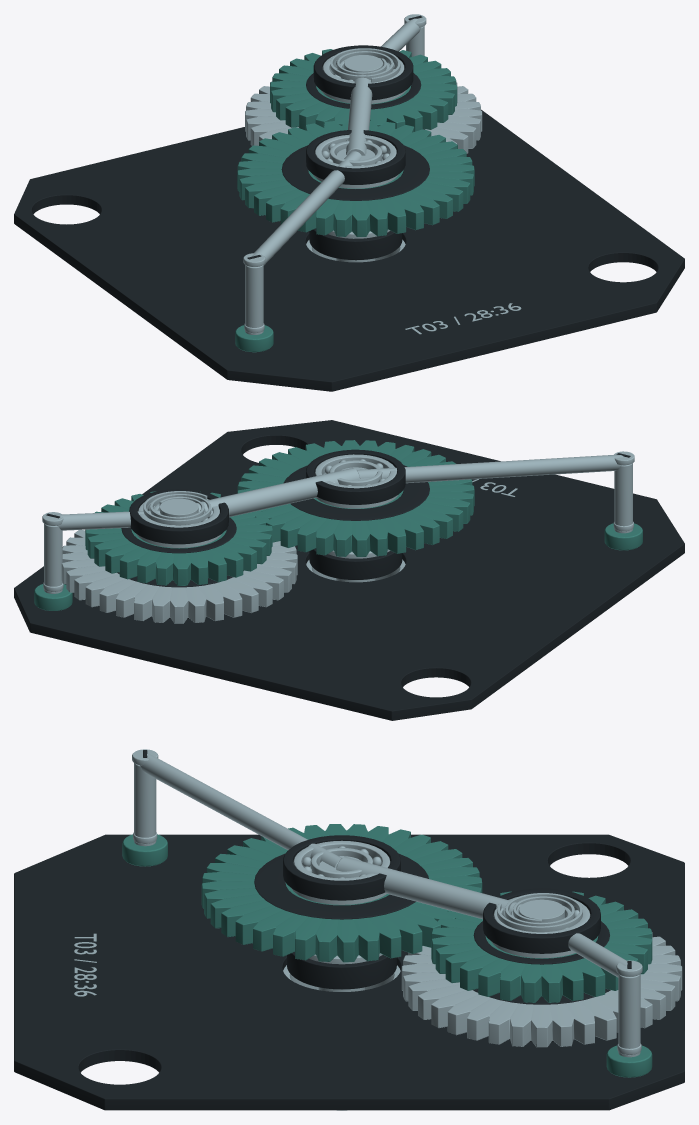
The picture shows the model from 3 angles, top to bottom: view 1: azimuth 30°, elevation 25°; view 2: azimuth 150°, elevation 25°; view 3: azimuth 270°, elevation 25°; orthographic projection. The views are drawn at different scales.
Visible parts, largest first — view 1: Export_T03_tray__Launcher_Graphite_POM__fixed_carrier, Export_T03_output_rotor__Performance_Teal_Anodized__output_g, Export_T03_bearing_bridge__Launcher_Brushed_Steel__bearing_w, Export_T03_input_rotor__Performance_Teal_Anodized__input_gea, Export_T03_bearing_bridge__Launcher_Graphite_POM__bearing_wo, Export_T03_input_rotor__Launcher_Brushed_Steel__input_gear_w, Export_T03_output_rotor__Launcher_Graphite_POM__output_gear_, Export_T03_return_spring__Launcher_Brushed_Steel__return_spr, Export_T03_tray__Launcher_Brushed_Steel__fixed_carrier, Export_T03_input_rotor__Launcher_Graphite_POM__input_gear_wo, Export_T03_tray__Performance_Teal_Anodized__fixed_carrier; view 2: Export_T03_tray__Launcher_Graphite_POM__fixed_carrier, Export_T03_bearing_bridge__Launcher_Brushed_Steel__bearing_w, Export_T03_output_rotor__Performance_Teal_Anodized__output_g, Export_T03_input_rotor__Launcher_Brushed_Steel__input_gear_w, Export_T03_input_rotor__Performance_Teal_Anodized__input_gea, Export_T03_bearing_bridge__Launcher_Graphite_POM__bearing_wo, Export_T03_output_rotor__Launcher_Graphite_POM__output_gear_, Export_T03_tray__Performance_Teal_Anodized__fixed_carrier, Export_T03_return_spring__Launcher_Brushed_Steel__return_spr, Export_T03_input_rotor__Launcher_Graphite_POM__input_gear_wo, Export_T03_tray__Launcher_Brushed_Steel__fixed_carrier, Export_T03_output_rotor__Launcher_Brushed_Steel__output_gear; view 3: Export_T03_tray__Launcher_Graphite_POM__fixed_carrier, Export_T03_output_rotor__Performance_Teal_Anodized__output_g, Export_T03_bearing_bridge__Launcher_Brushed_Steel__bearing_w, Export_T03_input_rotor__Launcher_Brushed_Steel__input_gear_w, Export_T03_input_rotor__Performance_Teal_Anodized__input_gea, Export_T03_bearing_bridge__Launcher_Graphite_POM__bearing_wo, Export_T03_output_rotor__Launcher_Graphite_POM__output_gear_, Export_T03_tray__Performance_Teal_Anodized__fixed_carrier, Export_T03_return_spring__Launcher_Brushed_Steel__return_spr, Export_T03_tray__Launcher_Brushed_Steel__fixed_carrier, Export_T03_input_rotor__Launcher_Graphite_POM__input_gear_wo, Export_T03_output_rotor__Launcher_Brushed_Steel__output_gear.
Part boxes in pixels (x1=…): Export_T03_tray__Launcher_Graphite_POM__fixed_carrier: x1=14, y1=109, x2=684, y2=391; Export_T03_output_rotor__Performance_Teal_Anodized__output_g: x1=237, y1=120, x2=474, y2=236; Export_T03_bearing_bridge__Launcher_Brushed_Steel__bearing_w: x1=243, y1=14, x2=426, y2=334; Export_T03_input_rotor__Performance_Teal_Anodized__input_gea: x1=270, y1=49, x2=457, y2=131; Export_T03_bearing_bridge__Launcher_Graphite_POM__bearing_wo: x1=247, y1=15, x2=422, y2=259; Export_T03_input_rotor__Launcher_Brushed_Steel__input_gear_w: x1=245, y1=55, x2=482, y2=153; Export_T03_output_rotor__Launcher_Graphite_POM__output_gear_: x1=281, y1=145, x2=429, y2=200; Export_T03_return_spring__Launcher_Brushed_Steel__return_spr: x1=330, y1=48, x2=400, y2=82; Export_T03_tray__Launcher_Brushed_Steel__fixed_carrier: x1=244, y1=229, x2=521, y2=334; Export_T03_input_rotor__Launcher_Graphite_POM__input_gear_wo: x1=298, y1=73, x2=425, y2=129; Export_T03_tray__Performance_Teal_Anodized__fixed_carrier: x1=235, y1=325, x2=273, y2=352; Export_T03_tray__Launcher_Graphite_POM__fixed_carrier: x1=14, y1=420, x2=684, y2=720; Export_T03_bearing_bridge__Launcher_Brushed_Steel__bearing_w: x1=42, y1=451, x2=634, y2=593; Export_T03_output_rotor__Performance_Teal_Anodized__output_g: x1=237, y1=440, x2=474, y2=556; Export_T03_input_rotor__Launcher_Brushed_Steel__input_gear_w: x1=61, y1=498, x2=297, y2=623; Export_T03_input_rotor__Performance_Teal_Anodized__input_gea: x1=85, y1=491, x2=272, y2=585; Export_T03_bearing_bridge__Launcher_Graphite_POM__bearing_wo: x1=46, y1=449, x2=630, y2=544; Export_T03_output_rotor__Launcher_Graphite_POM__output_gear_: x1=283, y1=465, x2=429, y2=520; Export_T03_tray__Performance_Teal_Anodized__fixed_carrier: x1=34, y1=523, x2=642, y2=610; Export_T03_return_spring__Launcher_Brushed_Steel__return_spr: x1=143, y1=491, x2=211, y2=525; Export_T03_input_rotor__Launcher_Graphite_POM__input_gear_wo: x1=117, y1=517, x2=243, y2=587; Export_T03_tray__Launcher_Brushed_Steel__fixed_carrier: x1=43, y1=479, x2=633, y2=592; Export_T03_output_rotor__Launcher_Brushed_Steel__output_gear: x1=316, y1=467, x2=398, y2=582; Export_T03_tray__Launcher_Graphite_POM__fixed_carrier: x1=14, y1=834, x2=684, y2=1110; Export_T03_output_rotor__Performance_Teal_Anodized__output_g: x1=201, y1=824, x2=482, y2=962; Export_T03_bearing_bridge__Launcher_Brushed_Steel__bearing_w: x1=132, y1=749, x2=642, y2=1057; Export_T03_input_rotor__Launcher_Brushed_Steel__input_gear_w: x1=401, y1=899, x2=682, y2=1047; Export_T03_input_rotor__Performance_Teal_Anodized__input_gea: x1=431, y1=891, x2=652, y2=1002; Export_T03_bearing_bridge__Launcher_Graphite_POM__bearing_wo: x1=143, y1=750, x2=631, y2=968; Export_T03_output_rotor__Launcher_Graphite_POM__output_gear_: x1=254, y1=853, x2=428, y2=919; Export_T03_tray__Performance_Teal_Anodized__fixed_carrier: x1=122, y1=834, x2=652, y2=1077; Export_T03_return_spring__Launcher_Brushed_Steel__return_spr: x1=497, y1=893, x2=582, y2=932; Export_T03_tray__Launcher_Brushed_Steel__fixed_carrier: x1=74, y1=832, x2=641, y2=1110; Export_T03_input_rotor__Launcher_Graphite_POM__input_gear_wo: x1=473, y1=921, x2=610, y2=1004; Export_T03_output_rotor__Launcher_Brushed_Steel__output_gear: x1=291, y1=856, x2=386, y2=991.
Size of the model in its own units: 1.24 by 0.5065 by 1.33.
